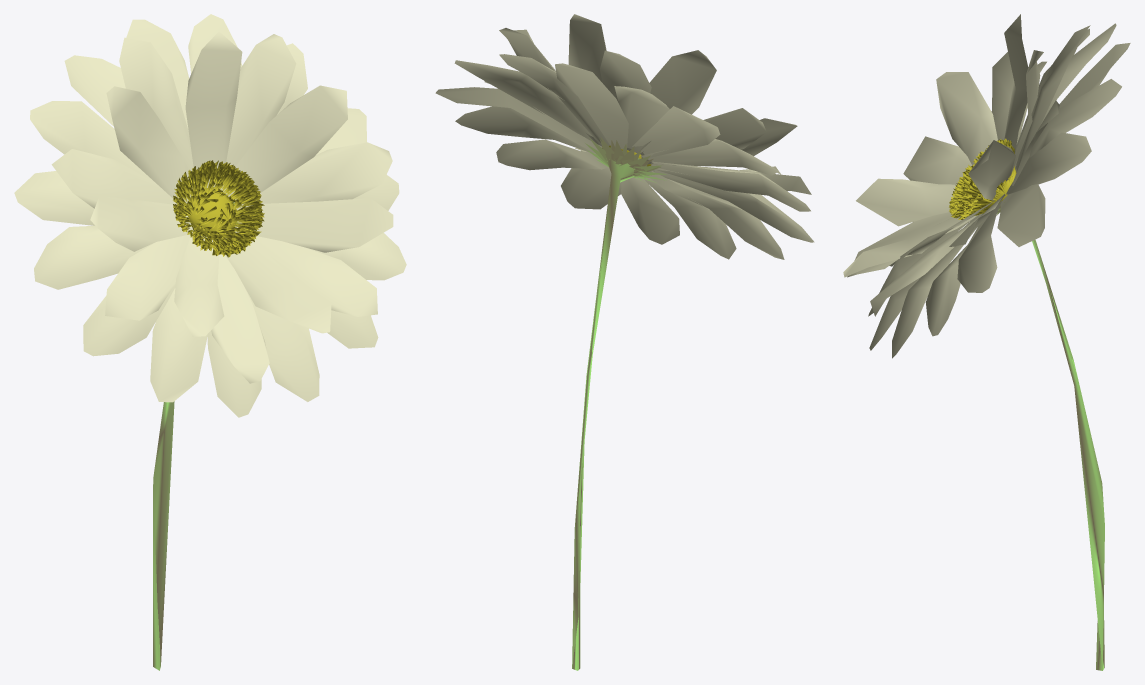
The picture shows the model from 3 angles, left to right: view 1: azimuth 30°, elevation 25°; view 2: azimuth 150°, elevation 25°; view 3: azimuth 270°, elevation 25°; orthographic projection. The views are drawn at different scales.
Parts seen in each view (by area): view 1: flover.002; view 2: flover.002; view 3: flover.002.
Part boxes in pixels (left/top/right/bottom): flover.002: left=14, top=14, right=406, bottom=670; flover.002: left=435, top=14, right=814, bottom=670; flover.002: left=843, top=14, right=1130, bottom=670.
Bounding box in the file's own units: 0.6425 × 1.09 × 0.4485.
